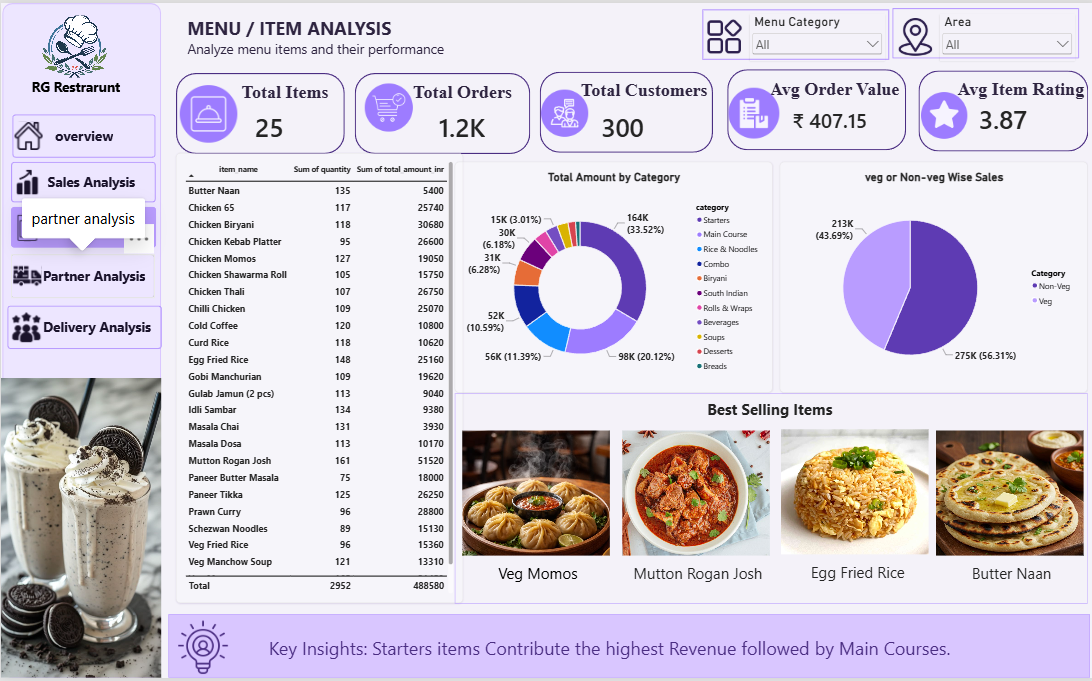

This screenshot's page, from the dashboard's own definition file:
{"tool":"powerbi","page":{"name":"menu & item performance","canvas":[1951,1200],"ordinal":3},"visuals":[{"type":"shape","box":[2.5,0,282.5,1200],"z":0},{"type":"shape","box":[310,124,300,144],"z":1000},{"type":"textbox","box":[401.9,140.3,205.5,40],"z":2000},{"type":"image","box":[317.5,135,102.5,122.5],"z":3000},{"type":"cardVisual","fields":{"Data":["Count(cleaned_menu.item_name)"]},"box":[435,187.5,130,65],"z":4000},{"type":"textbox","box":[331,21.8,651,125.5],"z":5000},{"type":"shape","box":[10.4,81.2,243.8,131.2],"z":6000},{"type":"image","box":[39.6,22.9,181.2,110.4],"z":7000},{"type":"shape","box":[628.8,124,312,144],"z":8000},{"type":"textbox","box":[718,140.6,205.5,40],"z":9000},{"type":"image","box":[646.1,142.2,85.4,87.5],"z":10000},{"type":"cardVisual","fields":{"Data":["formulas.total orders"]},"box":[762.5,187.5,194.6,65.5],"z":11000},{"type":"shape","box":[958,122,308,144],"z":12000},{"type":"textbox","box":[1022.5,135,242.5,45],"z":13000},{"type":"image","box":[960,136,84,120],"z":14000},{"type":"cardVisual","fields":{"Data":["Count(cleaned_customers.customer_name)"]},"box":[1050,187.5,194.6,65.5],"z":15000},{"type":"shape","box":[1292,118,318,144],"z":16000},{"type":"textbox","box":[1352.5,132.5,257.5,60],"z":17000},{"type":"image","box":[1294,138,90,116],"z":18000},{"type":"cardVisual","fields":{"Data":["Avg(cleaned_orders.total_amount_inr)"]},"box":[1390,172.5,194.6,65.5],"z":19000},{"type":"shape","box":[1630,120,302,144],"z":20000},{"type":"textbox","box":[1700,132.5,226,38],"z":21000},{"type":"image","box":[1635,150,82.5,97.5],"z":22000},{"type":"cardVisual","fields":{"Data":["Avg(cleaned_reviews.rating)"]},"box":[1722.5,172.5,194.6,65.5],"z":23000},{"type":"actionButton","title":"overview off","box":[20,197.5,255,77.5],"z":25000},{"type":"actionButton","title":"sales off","box":[17.5,282.5,257.5,72.5],"z":27000},{"type":"actionButton","title":"menu on","box":[17,363,258,73],"z":28000},{"type":"actionButton","title":"partner off","box":[17.5,447.5,255,77.5],"z":31000},{"type":"actionButton","title":"delivery Analysis off","box":[10,537.5,275,77.5],"z":31500},{"type":"shape","box":[297.5,1087.5,1640,112.5],"z":32000},{"type":"textbox","box":[315,1125,1532.5,75],"z":33000},{"type":"image","box":[305,1097.5,110,95],"z":34000},{"type":"tableEx","fields":{"Values":["item_performance.item_name","Sum(cleaned_orders.quantity)","Sum(cleaned_orders.total_amount_inr)"]},"box":[310,267.5,510,800],"z":35000},{"type":"donutChart","title":"Total Amount by Category","fields":{"Y":["Sum(cleaned_orders.total_amount_inr)"],"Category":["cleaned_orders.category"]},"box":[807.5,282.5,565,410],"z":37000},{"type":"shape","box":[807.5,692.5,1125,375],"z":38000},{"type":"pieChart","title":" veg or Non-veg Wise Sales","fields":{"Category":["cleaned_menu.veg_or_nonveg"],"Y":["Sum(cleaned_orders.total_amount_inr)"]},"box":[1385,282.5,547.5,410],"z":39000},{"type":"image","box":[820,760,262.5,222.5],"z":40000},{"type":"textbox","box":[807.5,705,1120,57.5],"z":41000},{"type":"textbox","box":[805,996.1,300,62.5],"z":42000},{"type":"image","box":[1105,760,262.5,222.5],"z":43000},{"type":"textbox","box":[1089,996.1,300,62.5],"z":44000},{"type":"image","box":[1387.5,757.5,262.5,222.5],"z":45000},{"type":"textbox","box":[1373,994.1,300,62.5],"z":46000},{"type":"image","box":[1662.5,760,262.5,222.5],"z":47000},{"type":"textbox","box":[1647,996.6,300,62.5],"z":48000},{"type":"shape","box":[1583.9,9.4,332.5,90],"z":49000},{"type":"slicer","fields":{"Values":["cleaned_customers.area"]},"box":[1668.9,19.4,240,82.5],"z":50000},{"type":"image","box":[1583.9,26.9,82.5,67.5],"z":51000},{"type":"image","box":[0,667.5,285,532.5],"z":55000},{"type":"shape","box":[1232,11.3,332.5,90],"z":55001},{"type":"slicer","fields":{"Values":["cleaned_menu.category"]},"box":[1317,21.3,240,82.5],"z":55002},{"type":"image","box":[1232,28.8,82.5,67.5],"z":55003}]}

Visuals, with their boxes on the page's 1951x1200 design canvas (x1, y1, x2, y2). These are canvas units, not pixel positions in the 1092x681 screenshot, which may show the page scaled, cropped or inside an application window:
shape: [2, 0, 285, 1200]
shape: [310, 124, 610, 268]
textbox: [402, 140, 607, 180]
image: [318, 135, 420, 258]
cardVisual - Count(cleaned_menu.item_name): [435, 188, 565, 252]
textbox: [331, 22, 982, 147]
shape: [10, 81, 254, 212]
image: [40, 23, 221, 133]
shape: [629, 124, 941, 268]
textbox: [718, 141, 924, 181]
image: [646, 142, 732, 230]
cardVisual - formulas.total orders: [762, 188, 957, 253]
shape: [958, 122, 1266, 266]
textbox: [1022, 135, 1265, 180]
image: [960, 136, 1044, 256]
cardVisual - Count(cleaned_customers.customer_name): [1050, 188, 1245, 253]
shape: [1292, 118, 1610, 262]
textbox: [1352, 132, 1610, 192]
image: [1294, 138, 1384, 254]
cardVisual - Avg(cleaned_orders.total_amount_inr): [1390, 172, 1585, 238]
shape: [1630, 120, 1932, 264]
textbox: [1700, 132, 1926, 170]
image: [1635, 150, 1718, 248]
cardVisual - Avg(cleaned_reviews.rating): [1722, 172, 1917, 238]
"overview off" actionButton: [20, 198, 275, 275]
"sales off" actionButton: [18, 282, 275, 355]
"menu on" actionButton: [17, 363, 275, 436]
"partner off" actionButton: [18, 448, 272, 525]
"delivery Analysis off" actionButton: [10, 538, 285, 615]
shape: [298, 1088, 1938, 1200]
textbox: [315, 1125, 1848, 1200]
image: [305, 1098, 415, 1192]
tableEx - item_performance.item_name x Sum(cleaned_orders.quantity): [310, 268, 820, 1068]
"Total Amount by Category" donutChart: [808, 282, 1372, 692]
shape: [808, 692, 1932, 1068]
" veg or Non-veg Wise Sales" pieChart: [1385, 282, 1932, 692]
image: [820, 760, 1082, 982]
textbox: [808, 705, 1928, 762]
textbox: [805, 996, 1105, 1059]
image: [1105, 760, 1368, 982]
textbox: [1089, 996, 1389, 1059]
image: [1388, 758, 1650, 980]
textbox: [1373, 994, 1673, 1057]
image: [1662, 760, 1925, 982]
textbox: [1647, 997, 1947, 1059]
shape: [1584, 9, 1916, 99]
slicer - cleaned_customers.area: [1669, 19, 1909, 102]
image: [1584, 27, 1666, 94]
image: [0, 668, 285, 1200]
shape: [1232, 11, 1564, 101]
slicer - cleaned_menu.category: [1317, 21, 1557, 104]
image: [1232, 29, 1314, 96]
